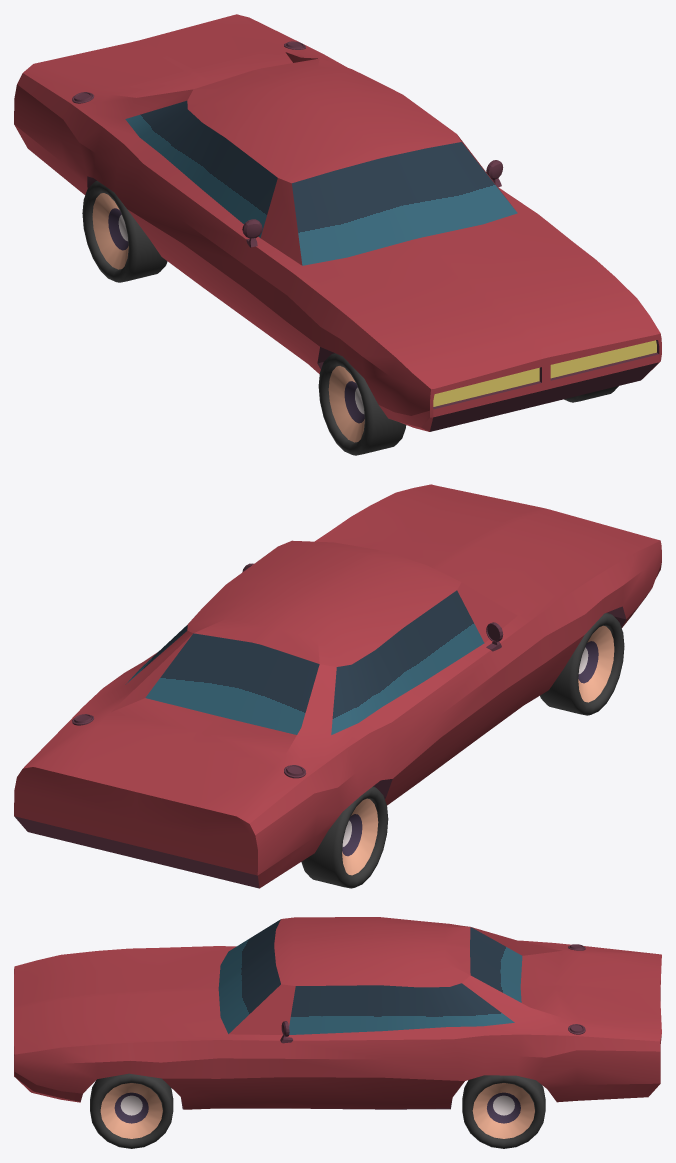
File: car.glb
3 views of the same model, one above another, from view 1: azimuth 30°, elevation 25°; view 2: azimuth 150°, elevation 25°; view 3: azimuth 270°, elevation 25° (orthographic). The views are drawn at different scales.
Visible parts, largest first — view 1: carbody, carwheelfrontright, carwheelbackright, extras; view 2: carbody, carwheelbackright, carwheelfrontright, extras; view 3: carbody, carwheelfrontleft, carwheelbackleft, extras.
Part boxes in pixels (x1,y1,x2,y2): carbody: (14, 14, 661, 431); carwheelfrontright: (318, 353, 406, 455); carwheelbackright: (82, 181, 167, 282); extras: (72, 41, 503, 247); carbody: (14, 484, 661, 888); carwheelbackright: (301, 786, 388, 888); carwheelfrontright: (540, 613, 624, 715); extras: (72, 563, 503, 778); carbody: (14, 917, 661, 1109); carwheelfrontleft: (90, 1073, 173, 1148); carwheelbackleft: (462, 1075, 545, 1148); extras: (280, 944, 585, 1043).
Bounding box in the file's own units: 3.39 × 2.47 × 9.02.
1 material, 1 textured.
